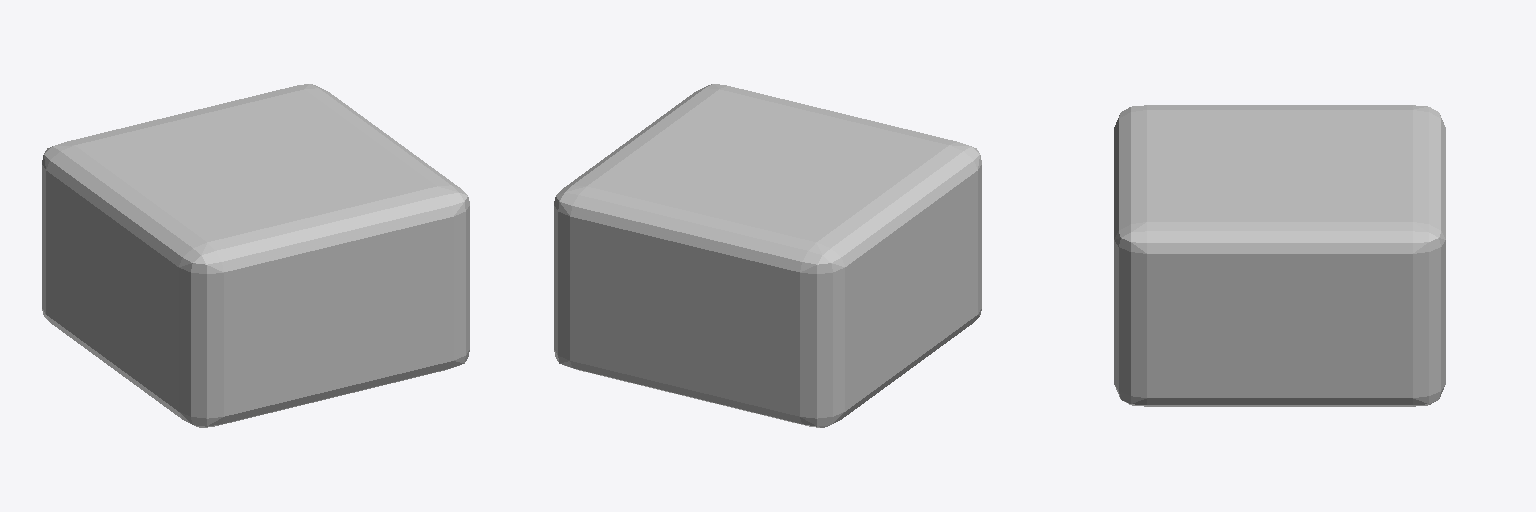
File: NewBlock.obj
The picture shows the model from 3 angles: view 1: azimuth 30°, elevation 25°; view 2: azimuth 150°, elevation 25°; view 3: azimuth 270°, elevation 25°; orthographic projection.
Parts seen in each view (by area): view 1: Border; view 2: Border; view 3: Border.
Part boxes in pixels (x1,y1,x2,y2): Border: (42, 84, 469, 427); Border: (554, 84, 981, 427); Border: (1114, 105, 1445, 406).
Bounding box in the file's own units: 2 × 1.2 × 2.